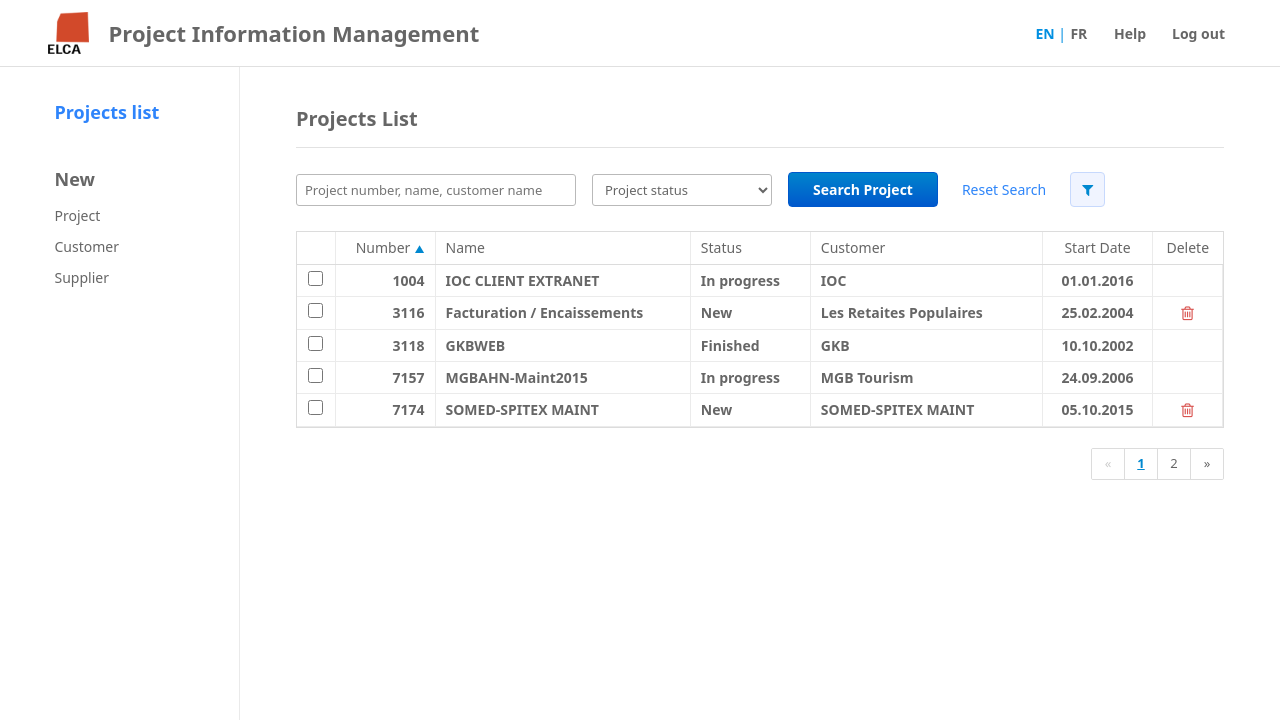
Test case: UAT User Journey Tests › UAT Journey 2: Search criteria preservation when navigating back from Cancel
This screenshot has width=1280, height=720.
Expected: the link "3116" is shown, [392,303,424,322]
Type "MGBAHN" into the field with placeholder "Project number, name, customer name" at {"x": 436, "y": 190}, box [296,174,576,206]
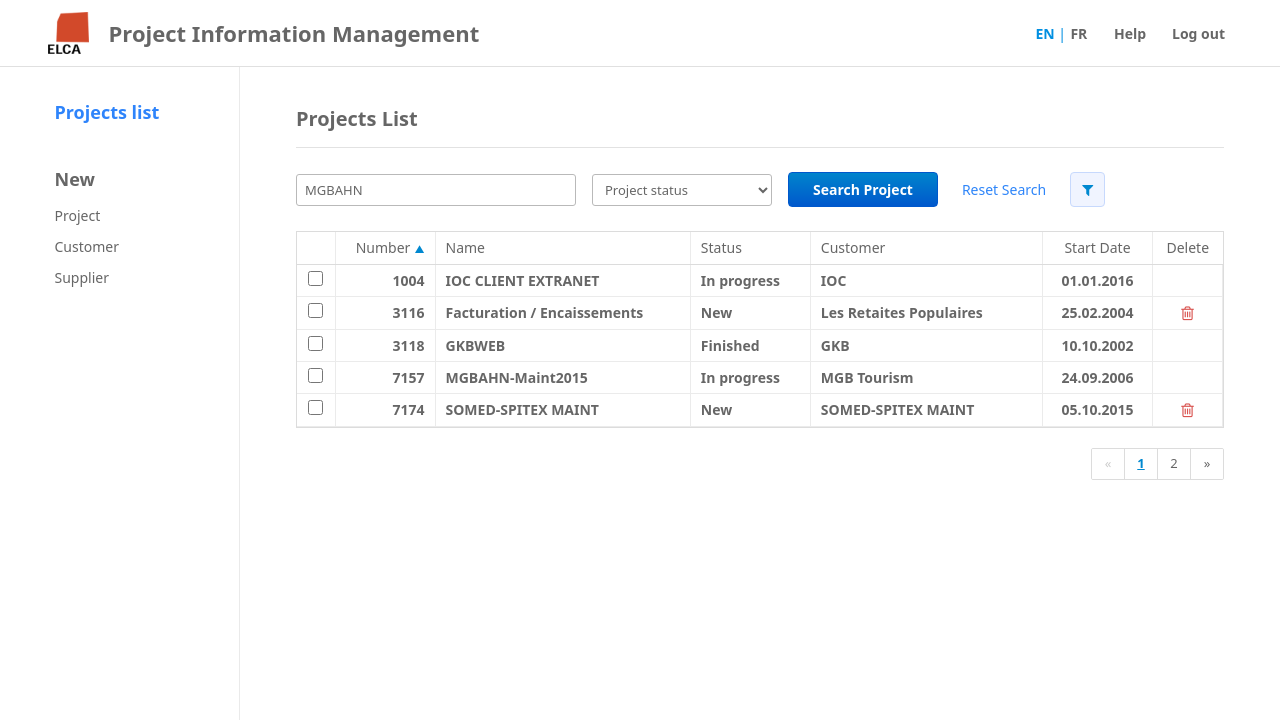
Select "In progress" in the dropdown showing "Project status" at {"x": 682, "y": 190}, box [592,174,772,206]
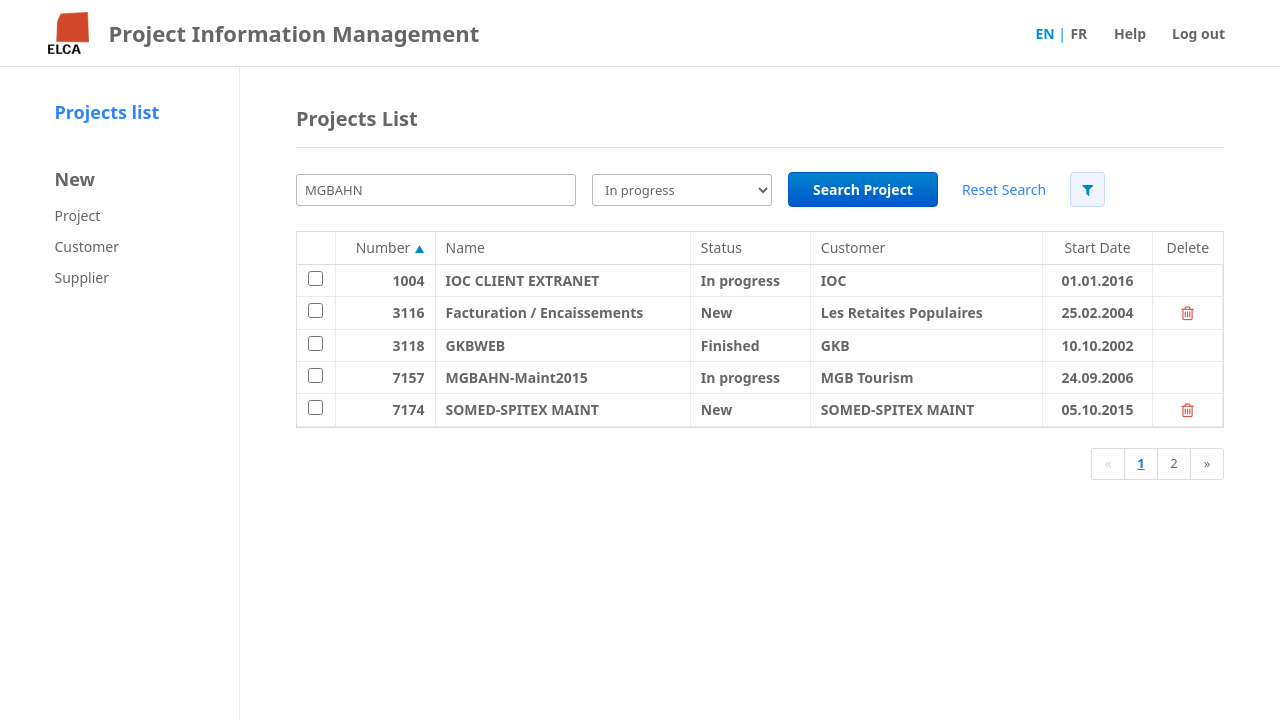
Click the button "Search Project" at {"x": 863, "y": 190}, box [788,172,938,207]
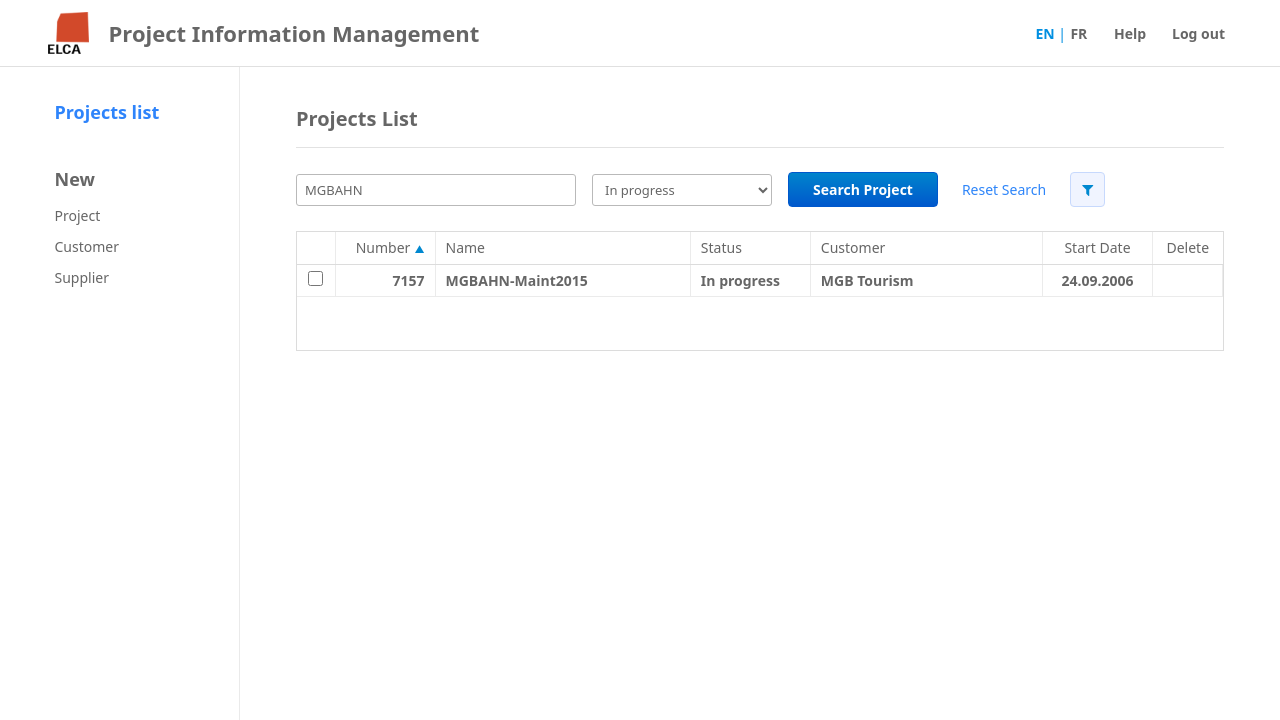
Result: the link "3116" is gone
Navigate to Edit project 7157
Click the link "7157" at {"x": 408, "y": 280}, box [392,270,424,290]
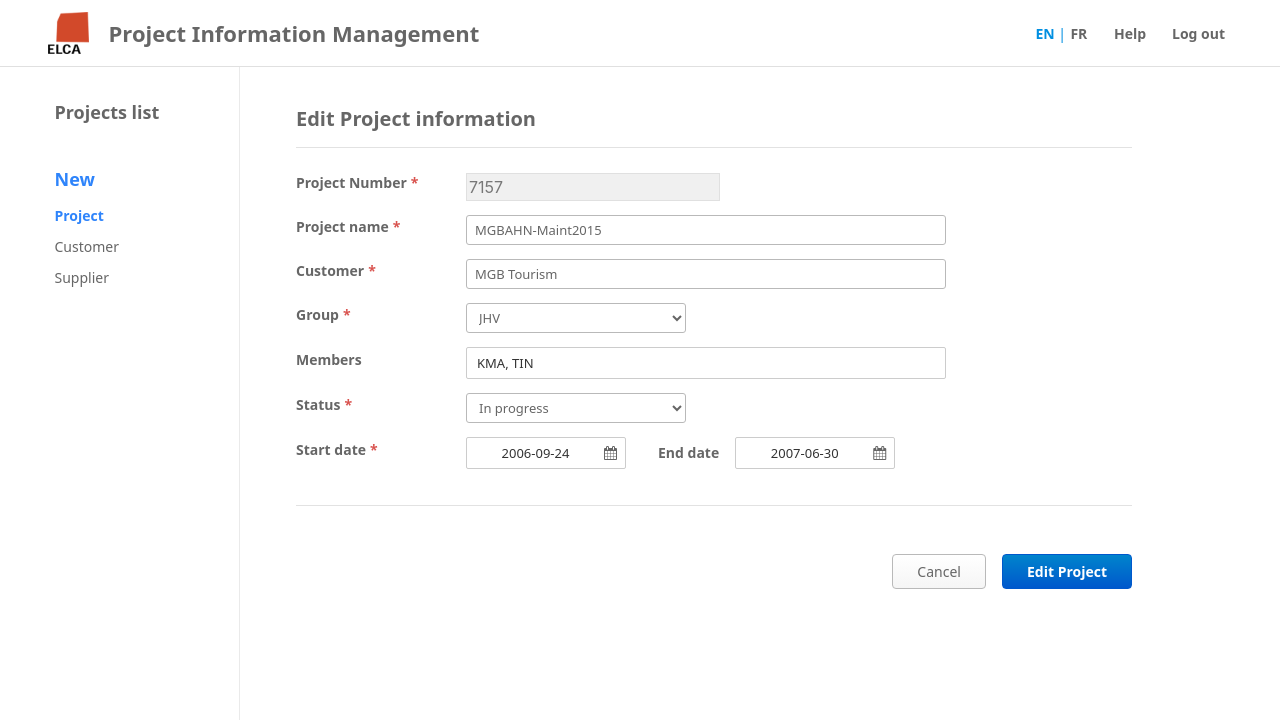
Result: the heading "Edit Project information" is shown at [296,105,536,132]
Result: the field labelled "Project Number*" is disabled at [466,172,720,200]
Click Cancel button
Click the button "Cancel" at {"x": 939, "y": 572}, box [892,554,986,589]
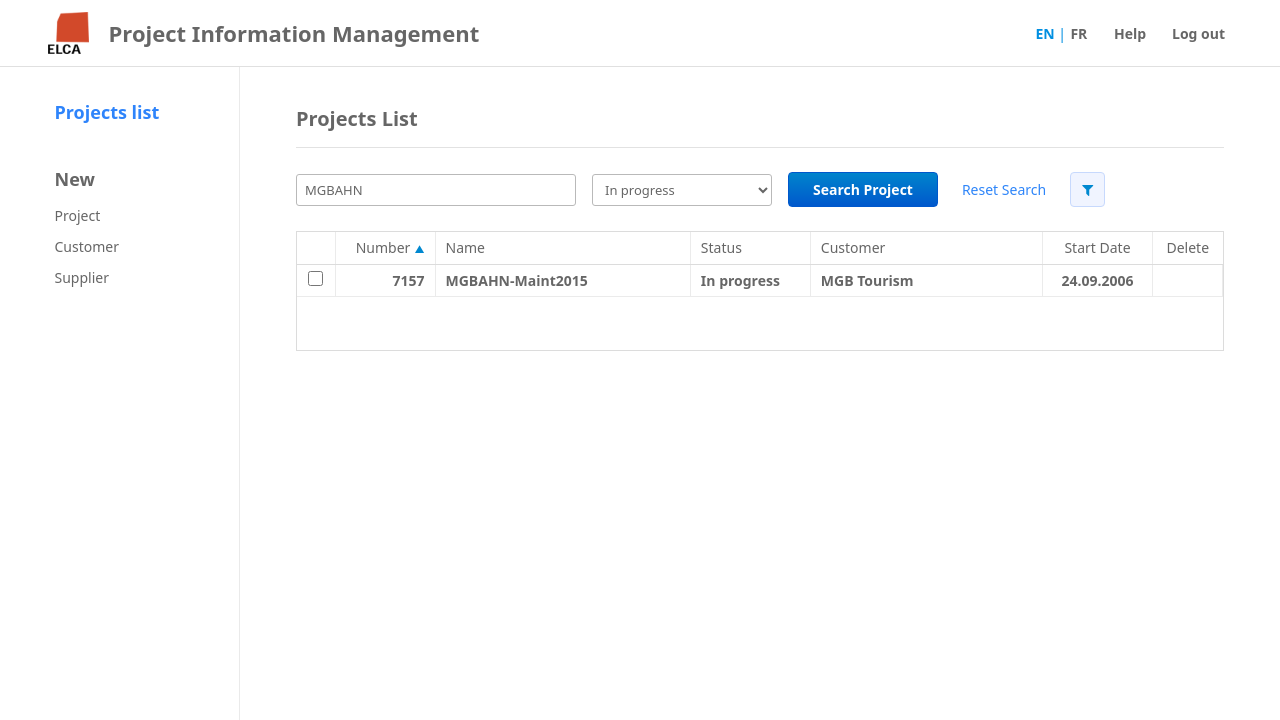
Result: the heading "Projects List" is shown at [296,105,418,132]
Result: the field with placeholder "Project number, name, customer name" holds "MGBAHN" at [296,174,576,206]
Result: the link "7157" is shown at [392,270,424,290]
